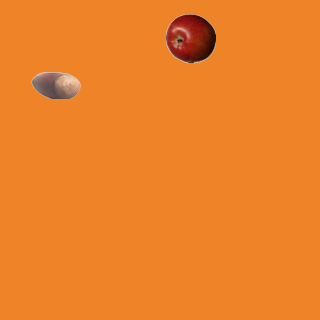Apple Braeburn: (165, 13, 215, 63)
Hazelnut: (30, 60, 80, 110)
